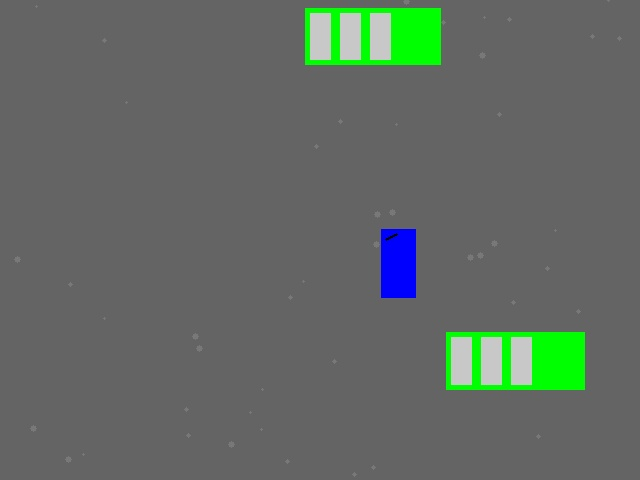bus: (446, 332, 584, 389), (305, 8, 440, 64)
motorcycle: (381, 229, 415, 297)
